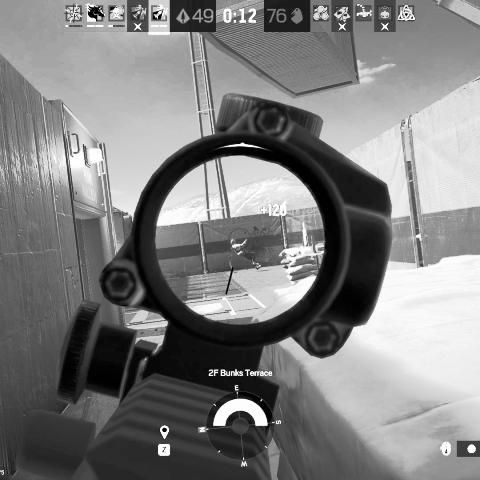Character: (230, 238, 261, 270)
Head: (230, 238, 237, 246)
